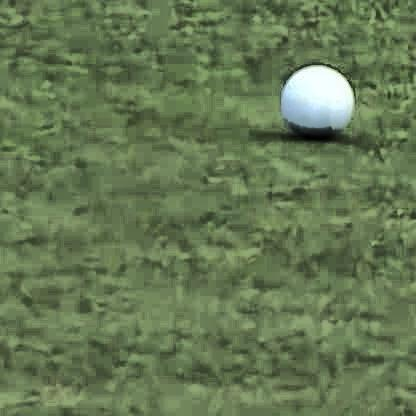golfball: (278, 56, 349, 133)
